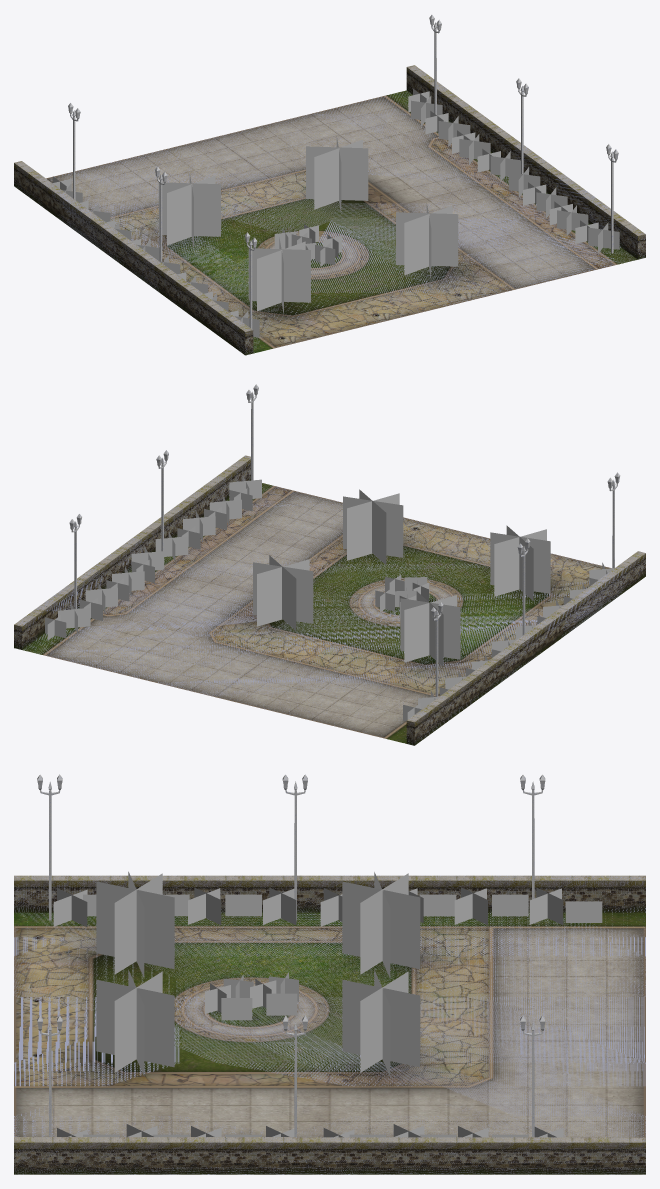
The model's file is park.dae.
3 views of the same model, one above another, from view 1: azimuth 30°, elevation 25°; view 2: azimuth 150°, elevation 25°; view 3: azimuth 270°, elevation 25° (orthographic). The views are drawn at different scales.
Visible parts, largest first — view 1: instance_27, group_7 (×4), instance_29, instance_28, group_6 (×4); view 2: instance_27, instance_29, group_5 (×4), instance_28, group_6 (×4), group_7 (×4), group_3 (×2); view 3: instance_27, instance_28, group_5 (×4), instance_29, group_7 (×4), group_2 (×4), group_6 (×4), group_9, group_15, instance_30, instance_31.
Boxes of the visible parts, x1,y1,x2,y2 form: instance_27: (46, 90, 637, 353); group_7 (×4): (158, 146, 458, 302); instance_29: (14, 161, 253, 355); instance_28: (406, 65, 645, 259); group_6 (×4): (167, 139, 452, 311); instance_27: (22, 483, 611, 743); instance_29: (406, 551, 645, 745); group_5 (×4): (257, 493, 546, 662); instance_28: (14, 455, 250, 649); group_6 (×4): (253, 496, 550, 659); group_7 (×4): (269, 489, 533, 666); group_3 (×2): (58, 536, 188, 628); instance_27: (14, 912, 645, 1137); instance_28: (14, 1137, 645, 1174); group_5 (×4): (96, 881, 420, 1067); instance_29: (14, 875, 645, 912); group_7 (×4): (114, 873, 408, 1072); group_2 (×4): (225, 894, 602, 922); group_6 (×4): (128, 871, 390, 1076); group_9: (266, 993, 297, 1015); group_15: (221, 998, 252, 1020); instance_30: (37, 774, 62, 920); instance_31: (282, 774, 307, 920).
Size of the model in its own units: 2000 by 2000 by 520.
